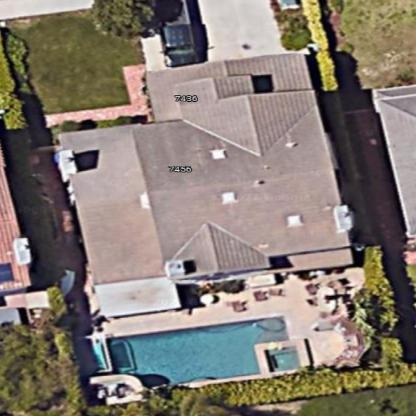poolww: (81, 314, 311, 386)
